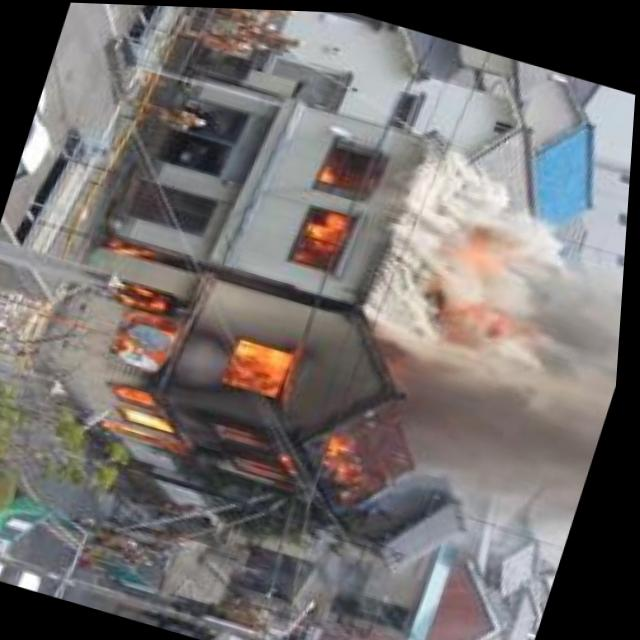Fire: (66, 252, 436, 525), (297, 136, 388, 265)
